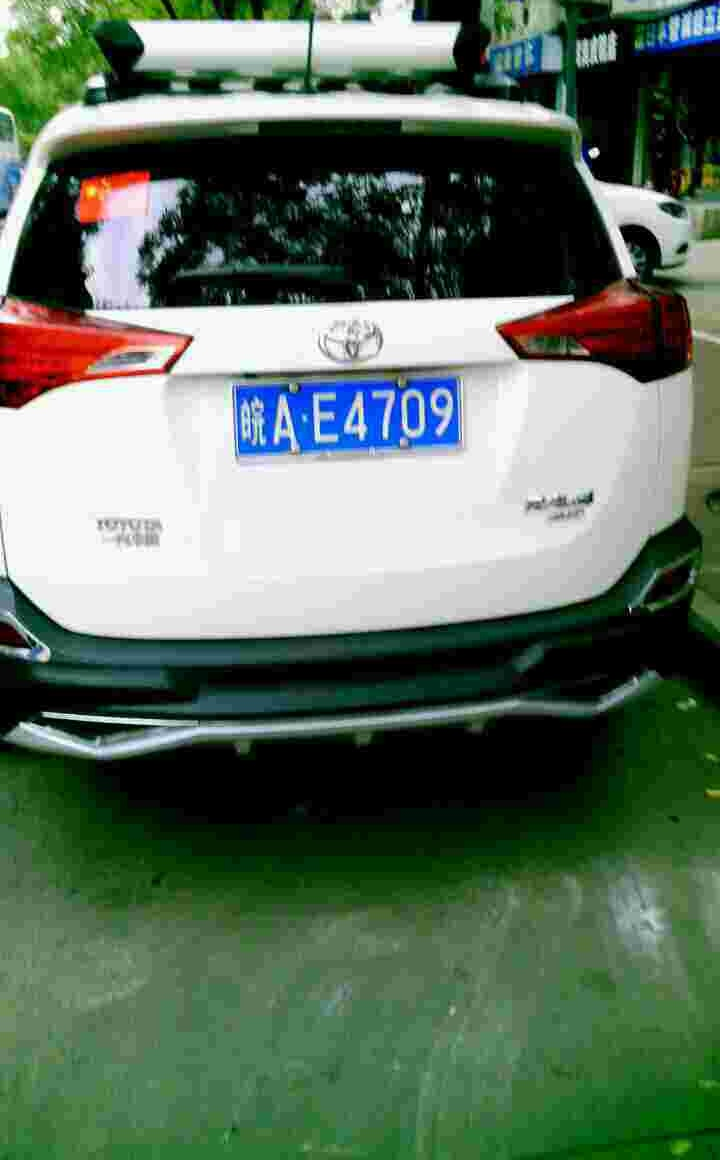plate: (237, 370, 467, 462)
